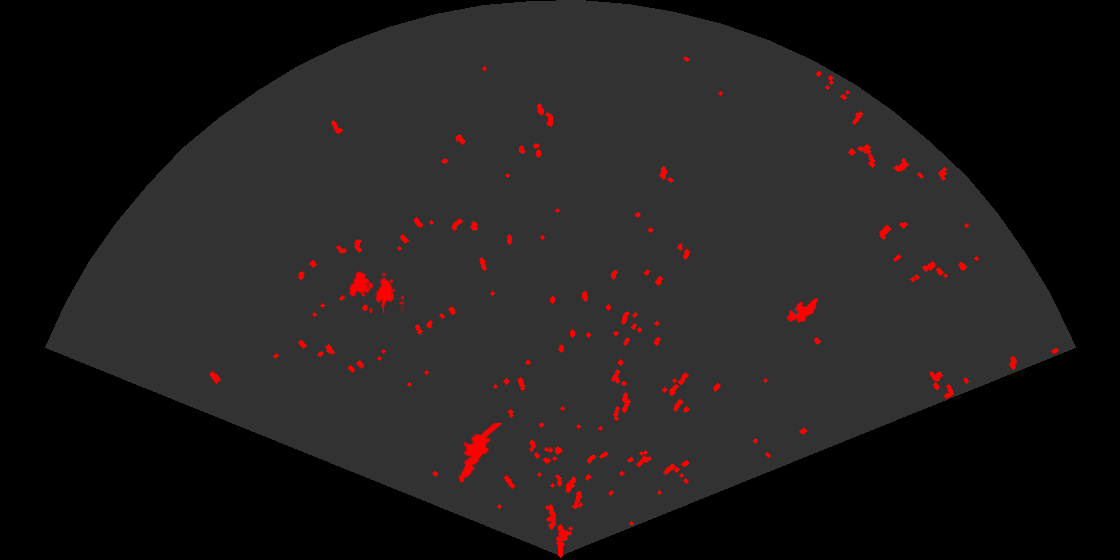AUV: (785, 296, 820, 324)
cage: (347, 269, 404, 313)
frogman: (457, 423, 502, 484)
